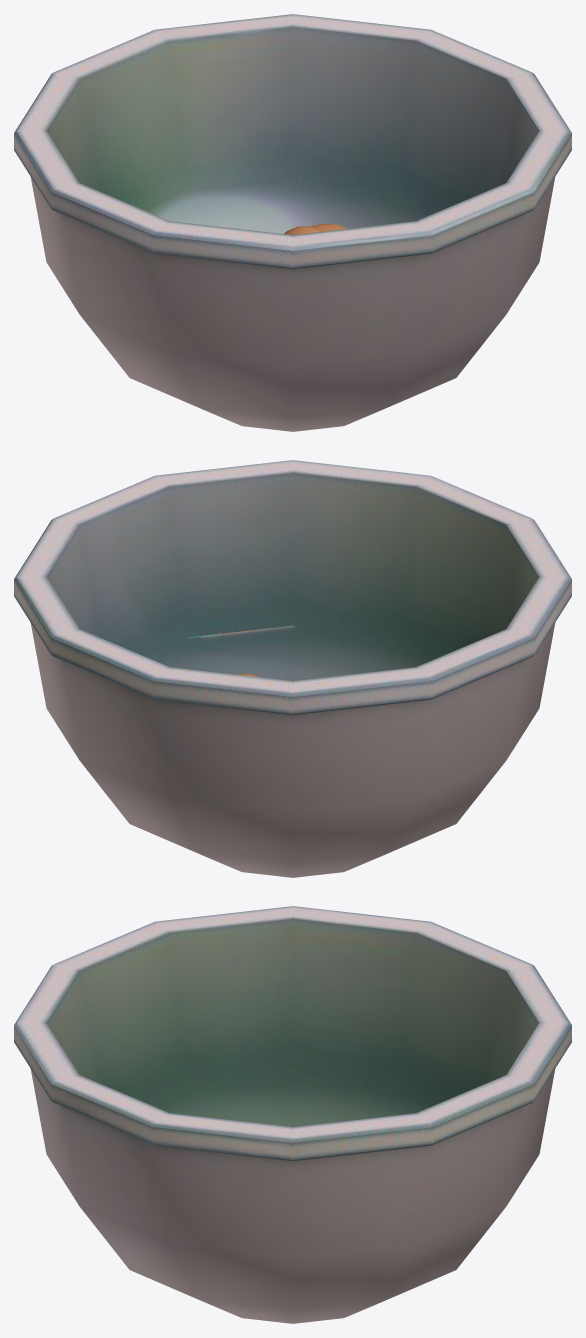
The model's file is mixingBowlEggs.gltf.
3 renders of one model, top to bottom at view 1: azimuth 30°, elevation 25°; view 2: azimuth 150°, elevation 25°; view 3: azimuth 270°, elevation 25°, orthographic.
Visible parts, largest first — view 1: MixingBowl; view 2: MixingBowl; view 3: MixingBowl.
Boxes of the visible parts, bbox=[...] form: MixingBowl: bbox=[14, 14, 571, 431]; MixingBowl: bbox=[14, 460, 571, 877]; MixingBowl: bbox=[14, 906, 571, 1323].
Size of the model in its own units: 0.3931 by 0.2142 by 0.3931.
Materials: 2 (2 with a texture image).
